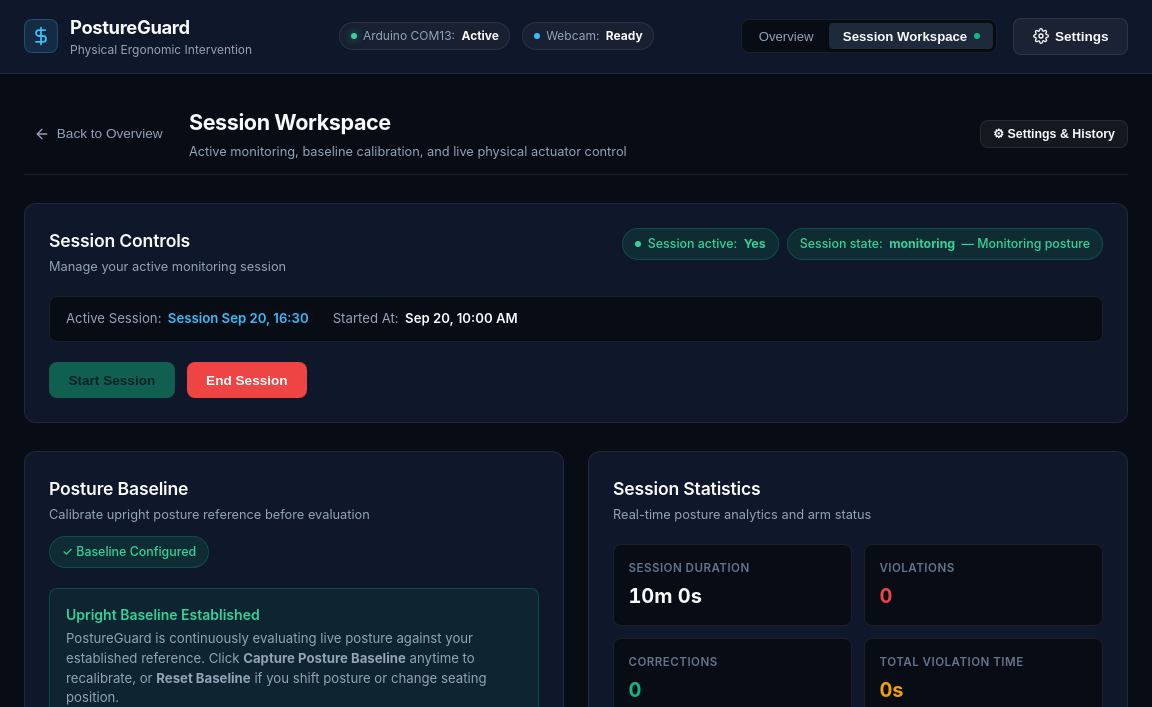
Scenario: App session dashboard › ends the active session and refreshes history
Click the button "End Session" at [247, 380], box [187,362,307,398]
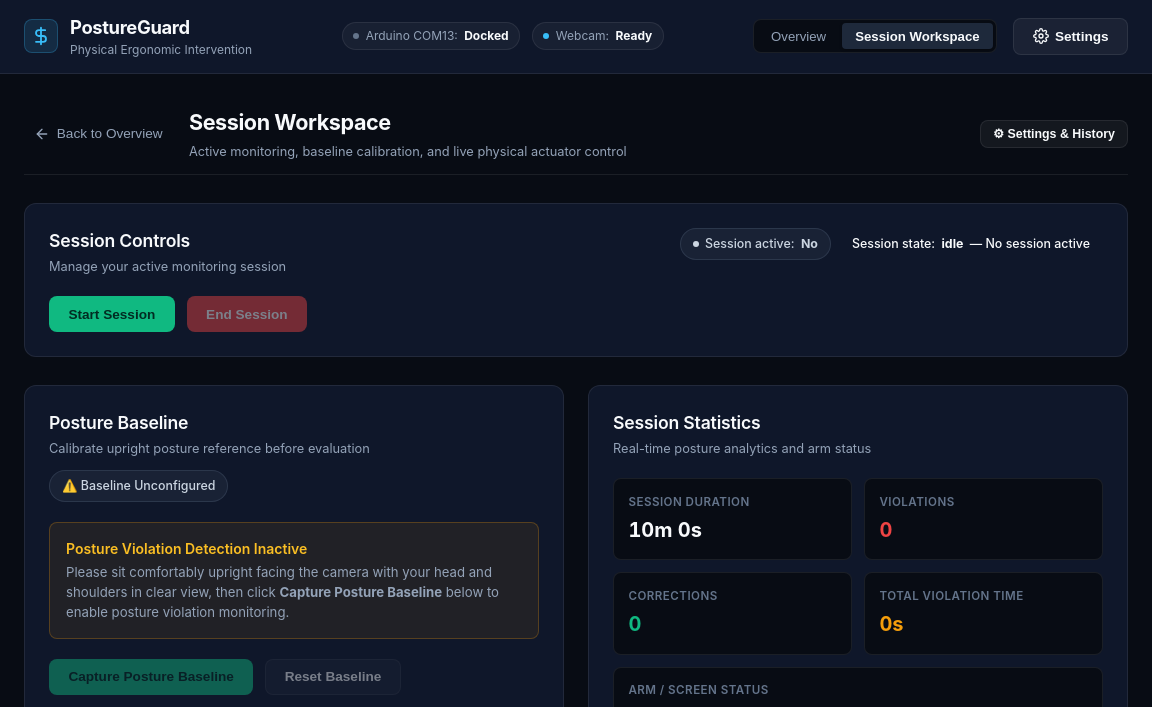
Expected: the text "No" is shown, [801,235,818,253]
Expected: the text "idle" is shown, [942,235,963,253]
Expected: the button "End Session" is disabled, [187,296,307,332]
